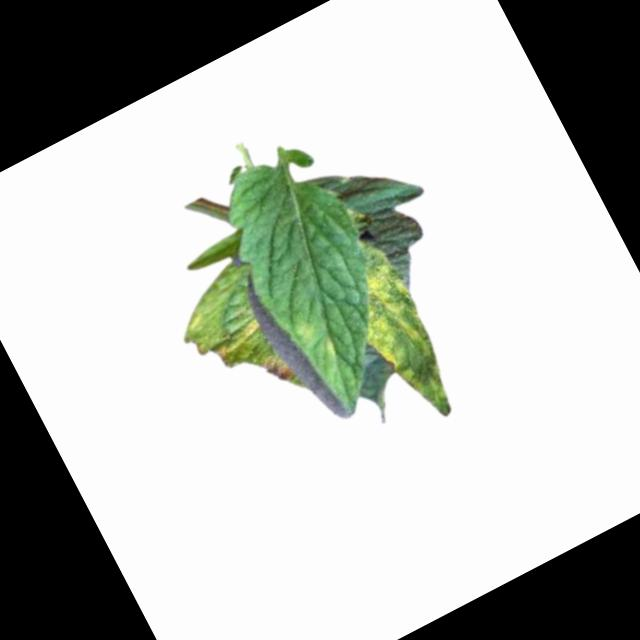Leaf_Mold: (330, 243, 459, 414), (170, 282, 295, 415), (285, 306, 345, 376)
